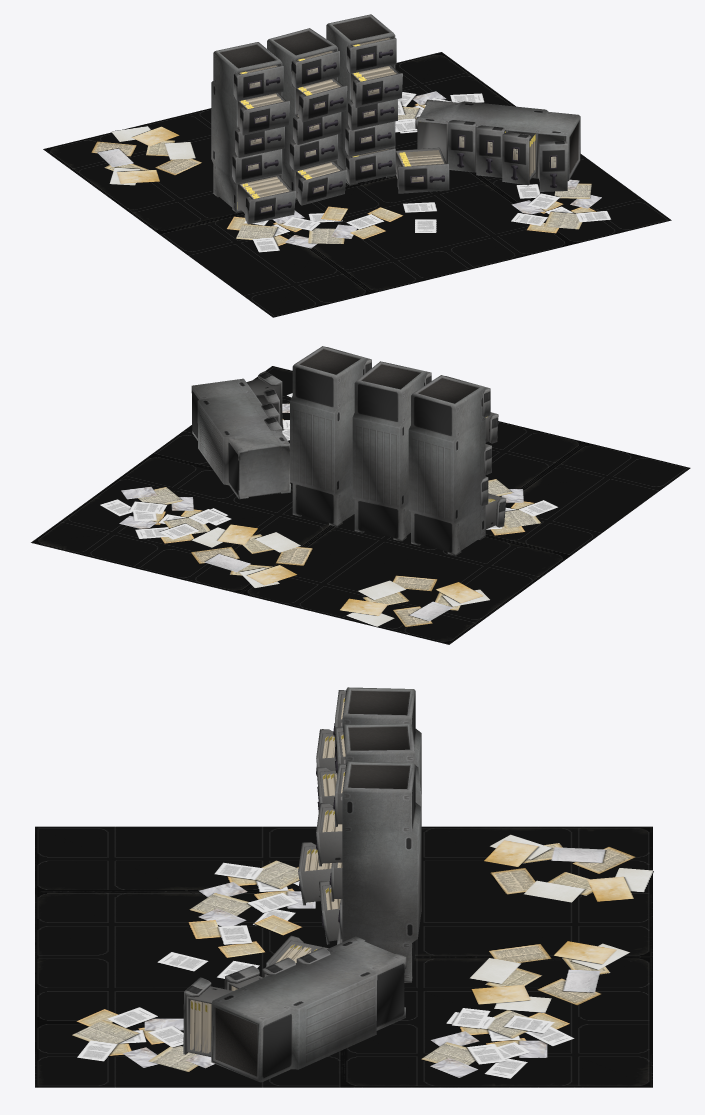
The model's file is ArchivePapers.fbx.
3 renders of one model, top to bottom at view 1: azimuth 30°, elevation 25°; view 2: azimuth 150°, elevation 25°; view 3: azimuth 270°, elevation 25°, orthographic. The views are drawn at different scales.
Visible parts, largest first — view 1: Plane, bakeObject.065_low.005, bakeObject.065_low.002, Plane.006, Plane.001, Plane.005, bakeObject.065_low.003, bakeObject.065_low.004, bakeObject.008_low.005, bakeObject.008_low.002, Plane.003, bakeObject.005_low.004 (+18 smaller); view 2: Plane, bakeObject.065_low.002, bakeObject.065_low.004, bakeObject.065_low.003, bakeObject.065_low.005, Plane.006, Plane.004, Plane.002, Plane.005, bakeObject.009_low.005, bakeObject.008_low.002; view 3: Plane, bakeObject.065_low.005, bakeObject.065_low.004, Plane.006, Plane.004, Plane.002, Plane.001, Plane.005, bakeObject.065_low.002, Plane.003, bakeObject.065_low.003, bakeObject.009_low.005 (+6 smaller).
Boxes of the visible parts, box(x1,y1,x2,y2) form: Plane: box(43, 52, 671, 317); bakeObject.065_low.005: box(415, 99, 580, 180); bakeObject.065_low.002: box(211, 42, 282, 213); Plane.006: box(91, 126, 202, 185); Plane.001: box(511, 179, 611, 233); Plane.005: box(227, 210, 357, 252); bakeObject.065_low.003: box(267, 28, 337, 200); bakeObject.065_low.004: box(326, 14, 395, 185); bakeObject.008_low.005: box(395, 147, 449, 193); bakeObject.008_low.002: box(238, 176, 295, 224); Plane.003: box(321, 202, 437, 239); bakeObject.005_low.004: box(351, 65, 402, 107); Plane: box(31, 366, 690, 644); bakeObject.065_low.002: box(408, 375, 485, 555); bakeObject.065_low.004: box(290, 346, 366, 526); bakeObject.065_low.003: box(352, 361, 427, 541); bakeObject.065_low.005: box(191, 378, 290, 499); Plane.006: box(339, 575, 489, 626); Plane.004: box(191, 524, 313, 587); Plane.002: box(100, 486, 231, 543); Plane.005: box(486, 478, 557, 535); bakeObject.009_low.005: box(246, 371, 282, 429); bakeObject.008_low.002: box(485, 493, 506, 529); Plane: box(35, 826, 652, 1087); bakeObject.065_low.005: box(211, 936, 406, 1082); bakeObject.065_low.004: box(342, 761, 421, 982); Plane.006: box(484, 834, 653, 902); Plane.004: box(469, 941, 629, 1012); Plane.002: box(421, 1008, 574, 1078); Plane.001: box(72, 1007, 215, 1071); Plane.005: box(189, 860, 315, 926); bakeObject.065_low.002: box(342, 687, 421, 806); Plane.003: box(157, 915, 301, 979); bakeObject.065_low.003: box(343, 723, 421, 806); bakeObject.009_low.005: box(183, 977, 233, 1056).
Size of the model in its own units: 800 by 253 by 806.
